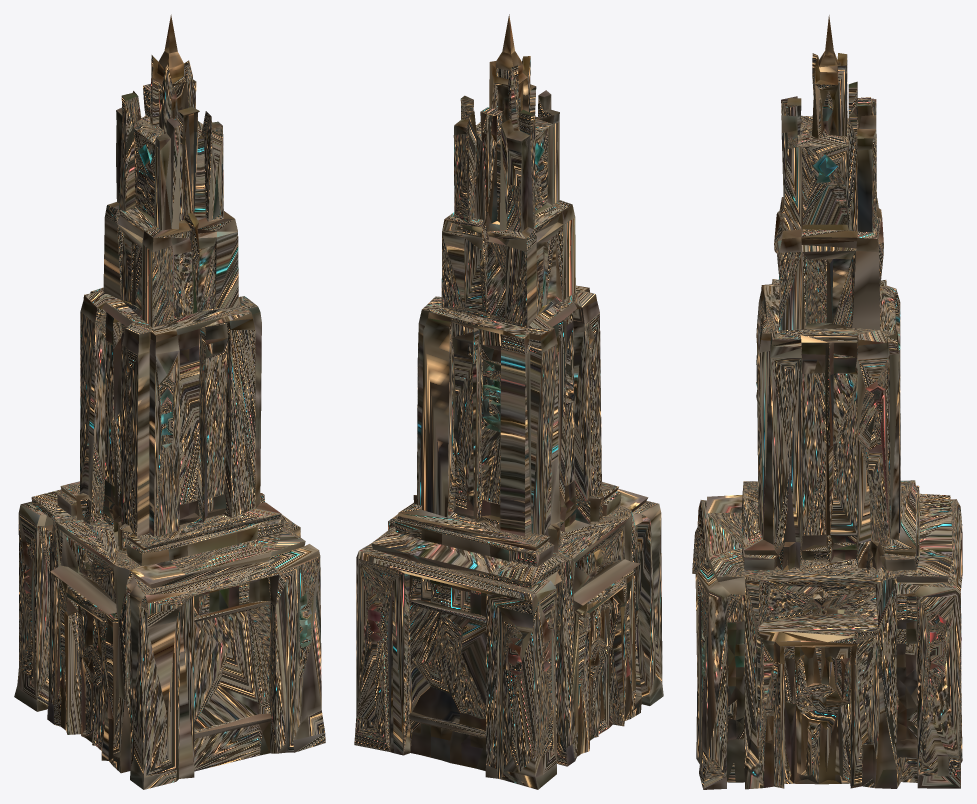
File: c03_far.glb
3 renders of one model, left to right at view 1: azimuth 30°, elevation 25°; view 2: azimuth 150°, elevation 25°; view 3: azimuth 270°, elevation 25°, orthographic. The views are drawn at different scales.
Parts seen in each view (by area): view 1: c03_far; view 2: c03_far; view 3: c03_far.
Part boxes in pixels (x1,y1,x2,y2): c03_far: (14,14,325,789); c03_far: (354,14,663,789); c03_far: (692,15,962,789).
Bounding box in the file's own units: 34.79 × 120 × 40.4.
Materials: 1 (1 with a texture image).
